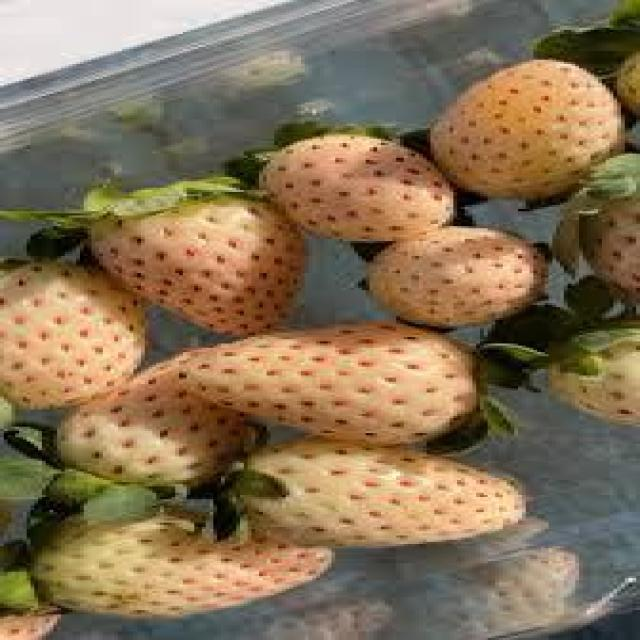Strawberry: (181, 322, 478, 444), (32, 510, 338, 621), (236, 438, 526, 548), (93, 196, 307, 335), (55, 344, 238, 497), (432, 60, 623, 194), (0, 259, 149, 406), (266, 134, 449, 239), (364, 224, 542, 330), (537, 320, 640, 433), (569, 159, 640, 305), (0, 596, 62, 640), (616, 44, 640, 120)
